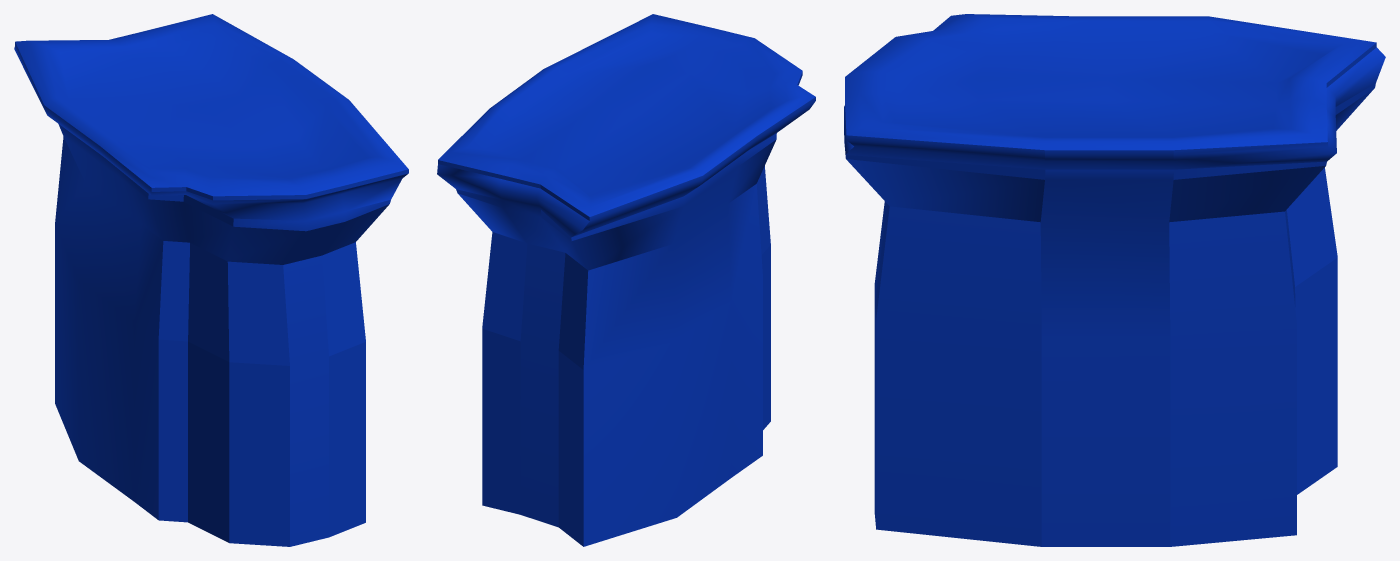
The model's file is DungeonMid2.fbx.
The picture shows the model from 3 angles, left to right: view 1: azimuth 30°, elevation 25°; view 2: azimuth 150°, elevation 25°; view 3: azimuth 270°, elevation 25°; orthographic projection. The views are drawn at different scales.
Visible parts, largest first — view 1: DungeonMideum2; view 2: DungeonMideum2; view 3: DungeonMideum2.
Part boxes in pixels (x1,y1,x2,y2): DungeonMideum2: (14,14,408,546); DungeonMideum2: (437,14,815,546); DungeonMideum2: (844,14,1385,546).
Size of the model in its own units: 347 by 512 by 591.
